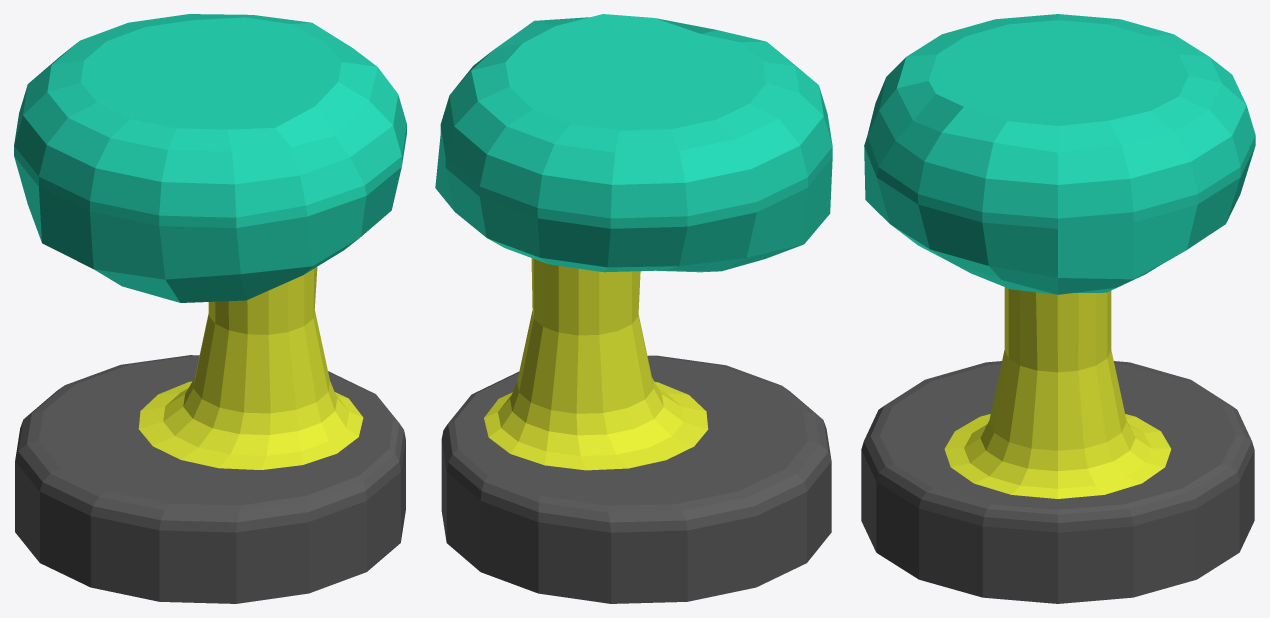
File: tree.glb
3 renders of one model, left to right at view 1: azimuth 30°, elevation 25°; view 2: azimuth 150°, elevation 25°; view 3: azimuth 270°, elevation 25°, orthographic.
Visible parts, largest first — view 1: tree; view 2: tree; view 3: tree.
Boxes of the visible parts, bbox=[...] form: tree: bbox=[14, 14, 406, 603]; tree: bbox=[435, 14, 832, 603]; tree: bbox=[861, 14, 1255, 603].
Bounding box in the file's own units: 2.01 × 2.54 × 2.01.
